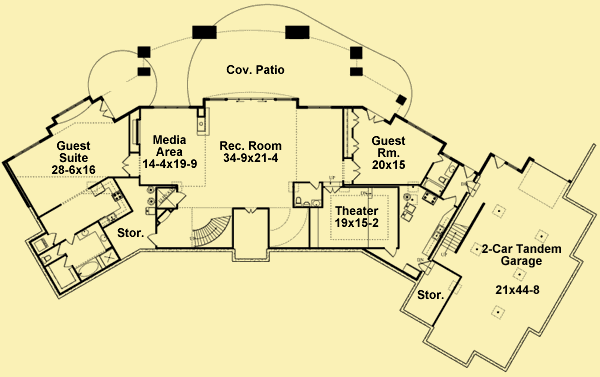door: (98, 101, 116, 120), (365, 105, 382, 124), (119, 153, 132, 175), (492, 153, 506, 172), (462, 161, 474, 181), (353, 157, 362, 182), (380, 245, 398, 257), (241, 203, 259, 215), (308, 177, 322, 191), (430, 151, 444, 164), (174, 191, 188, 204), (351, 113, 361, 130), (352, 136, 360, 157), (444, 195, 457, 207), (49, 230, 59, 245), (66, 232, 78, 244), (50, 246, 66, 254), (63, 254, 72, 268)
large sink: (37, 252, 53, 264), (436, 172, 449, 185), (293, 194, 303, 207)
small sink: (219, 96, 278, 106), (94, 229, 112, 251), (76, 225, 93, 239), (308, 198, 322, 210), (445, 162, 457, 173)
stairs: (192, 213, 233, 248), (442, 215, 468, 260)
tub: (423, 178, 444, 196)
windows: (222, 96, 280, 106)
